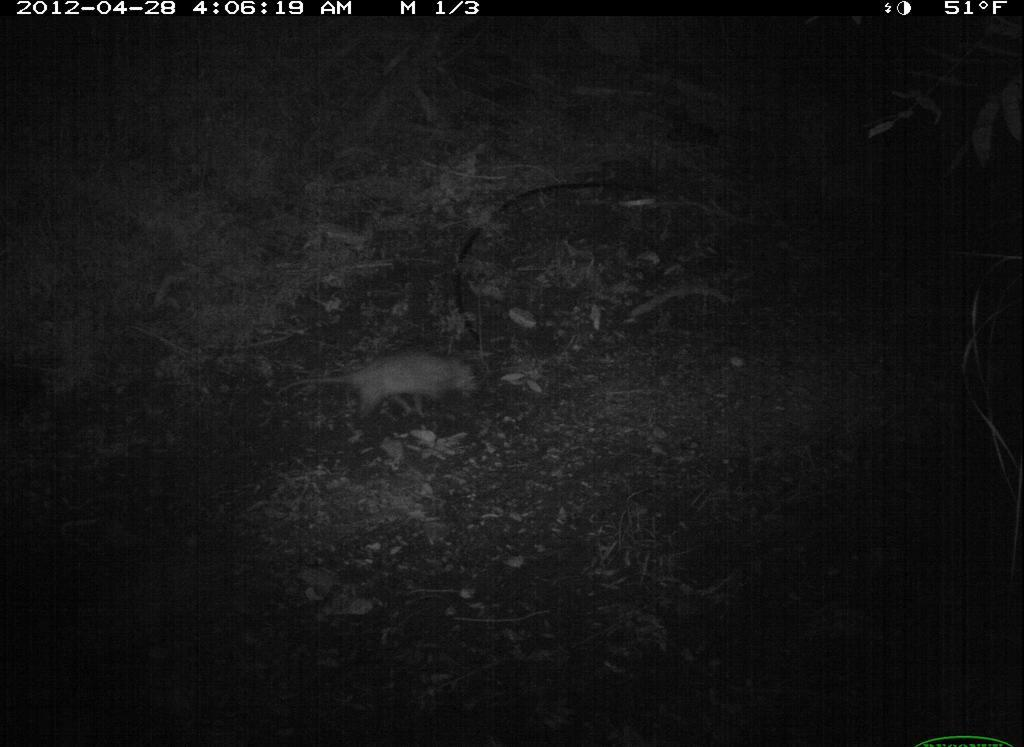opossum: (271, 342, 501, 423)
